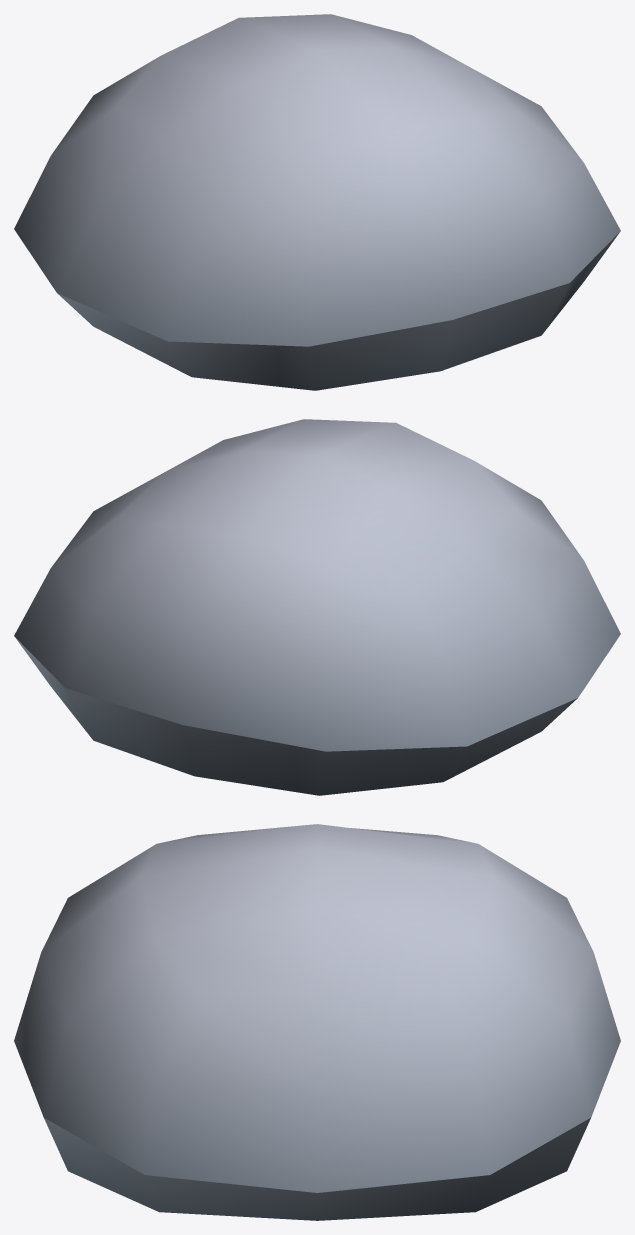
File: snow_2.glb
3 renders of one model, top to bottom at view 1: azimuth 30°, elevation 25°; view 2: azimuth 150°, elevation 25°; view 3: azimuth 270°, elevation 25°, orthographic. The views are drawn at different scales.
Visible parts, largest first — view 1: snow_2; view 2: snow_2; view 3: snow_2.
Part boxes in pixels (box(x1,y1,x2,y2)): snow_2: box(14, 14, 620, 390); snow_2: box(14, 419, 620, 795); snow_2: box(14, 824, 620, 1220).
Bounding box in the file's own units: 3.64 × 1.61 × 3.27.
1 material, 1 textured.
